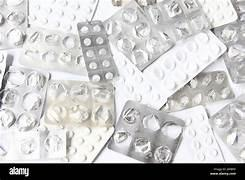pill_Strip: (143, 31, 225, 97), (104, 1, 173, 70), (108, 101, 183, 162), (112, 46, 166, 111), (44, 80, 115, 126), (39, 118, 113, 162), (40, 118, 113, 162), (0, 66, 49, 130), (20, 27, 86, 74), (170, 106, 223, 162), (162, 71, 234, 111), (144, 0, 210, 40), (214, 0, 244, 83), (77, 21, 117, 81), (209, 94, 244, 161), (29, 0, 97, 33), (46, 80, 114, 111), (0, 129, 65, 161), (66, 126, 114, 163), (0, 0, 27, 49), (197, 0, 237, 27), (10, 130, 42, 160), (223, 39, 244, 83), (39, 128, 66, 158), (93, 0, 120, 21), (0, 130, 13, 161), (231, 0, 244, 20), (0, 51, 6, 88), (136, 0, 156, 5), (111, 0, 123, 5)
